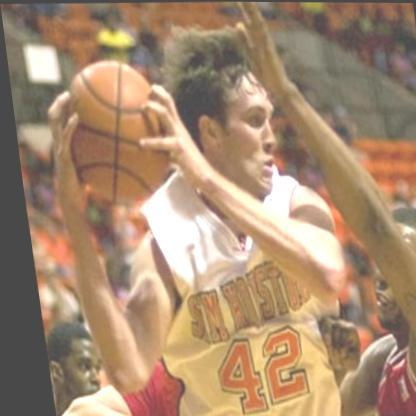basketball: (53, 59, 179, 205)
